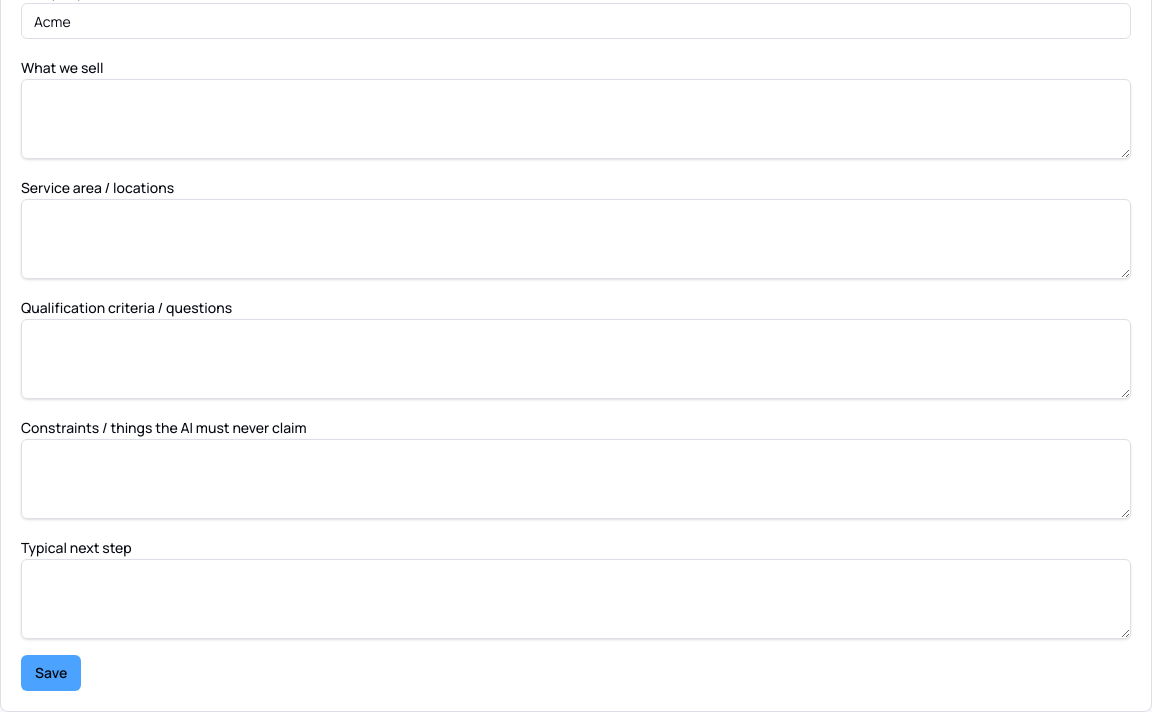
Test: OrganizationSettingsForm › displays validation errors from the API
(page scrolled)
Expected: the field labelled "Company name" is shown, [21,3,1131,39]
Click the button "Save" at coordinates (51, 673), box [21,655,81,691]
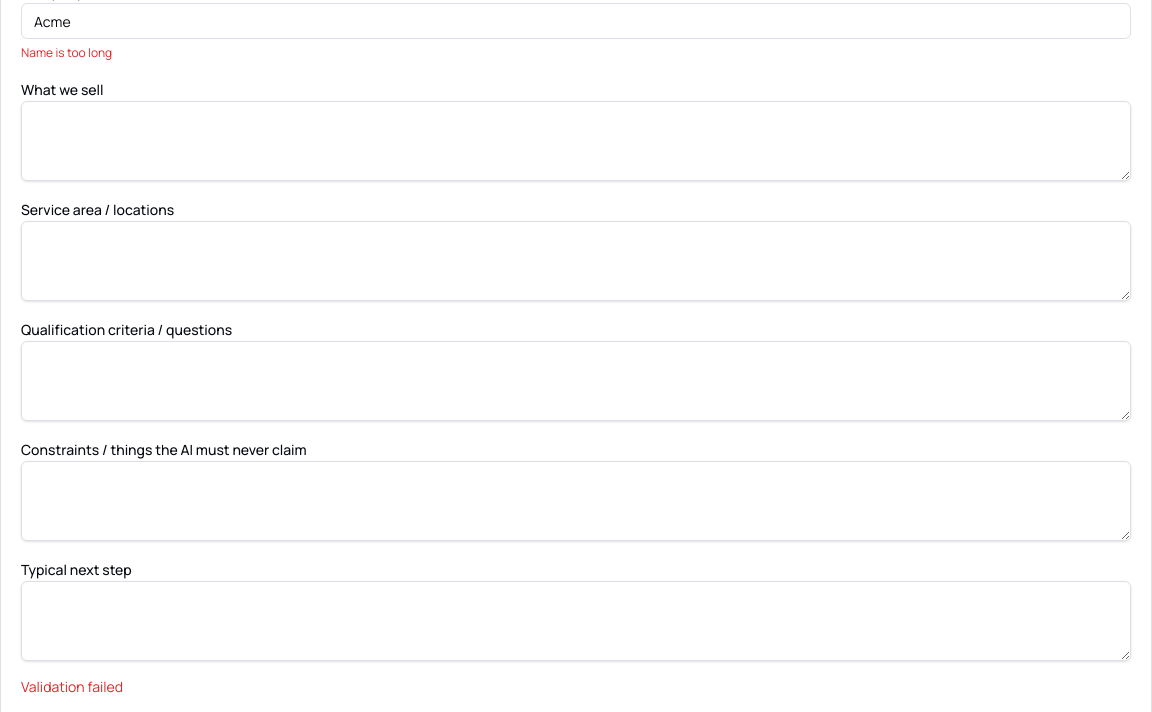
Result: the text "Name is too long" is shown at [21,44,112,61]
